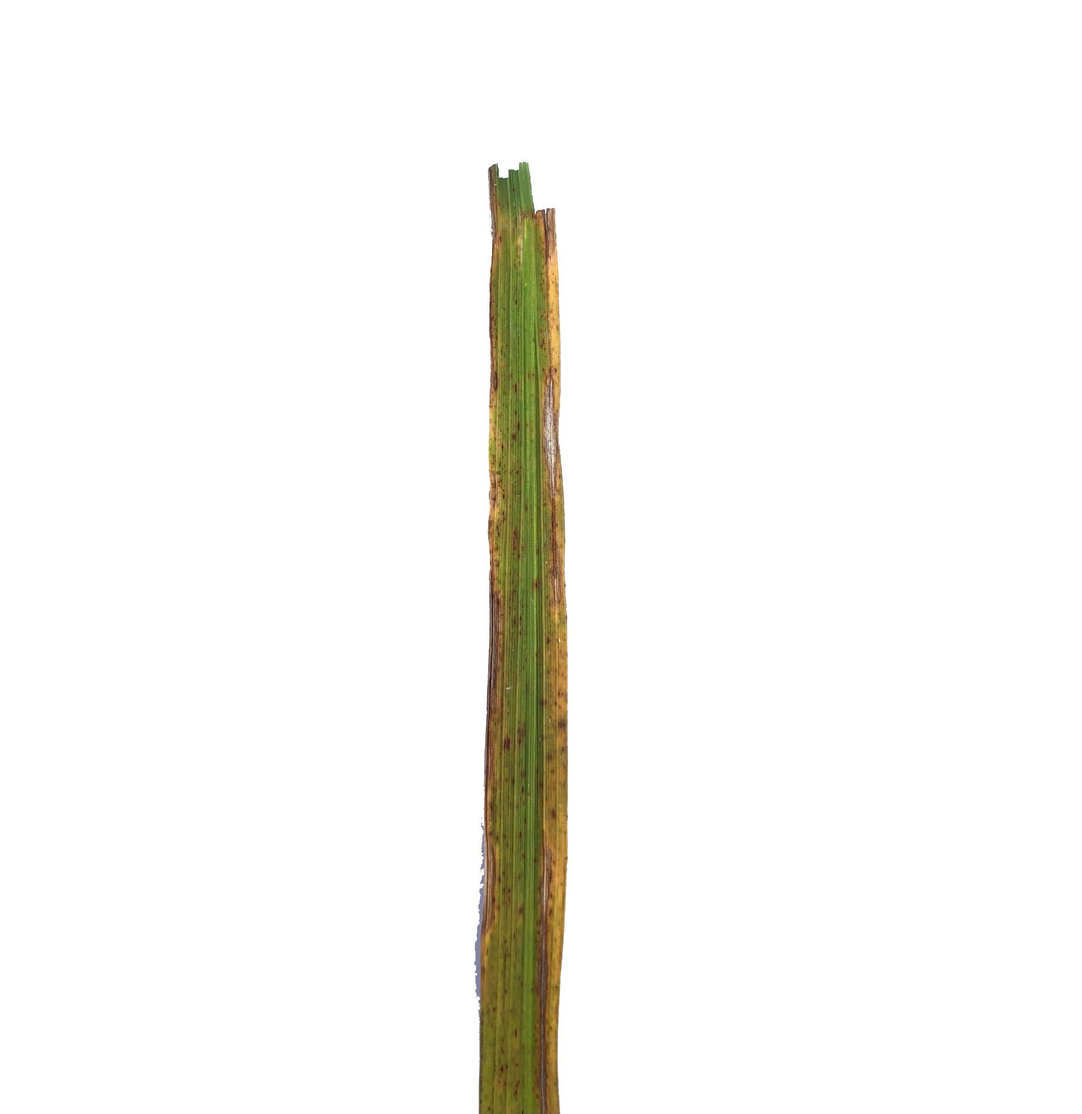Leaf Smut: (475, 792, 530, 1114), (522, 531, 571, 851), (486, 311, 533, 514)
Rice blast: (532, 833, 559, 1114), (533, 326, 566, 525), (482, 557, 503, 776), (524, 189, 559, 257)
